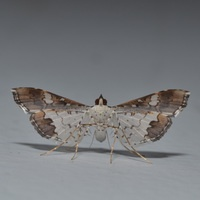insect: (11, 87, 189, 162)
